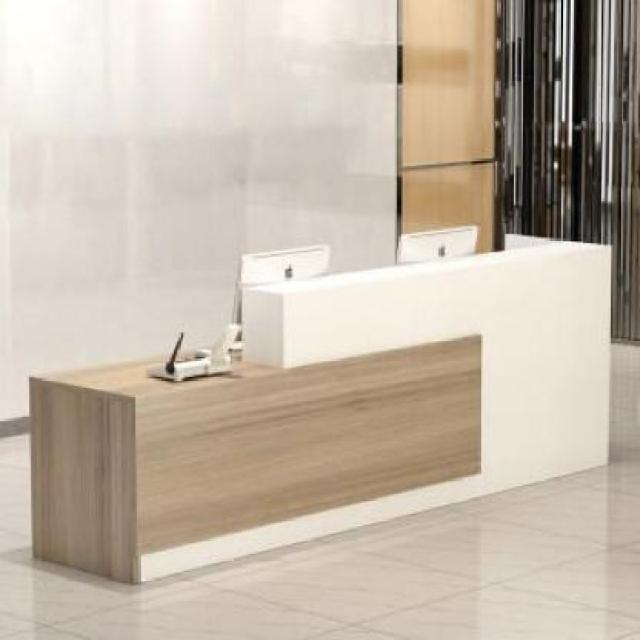frontdesk: (18, 223, 624, 602)
